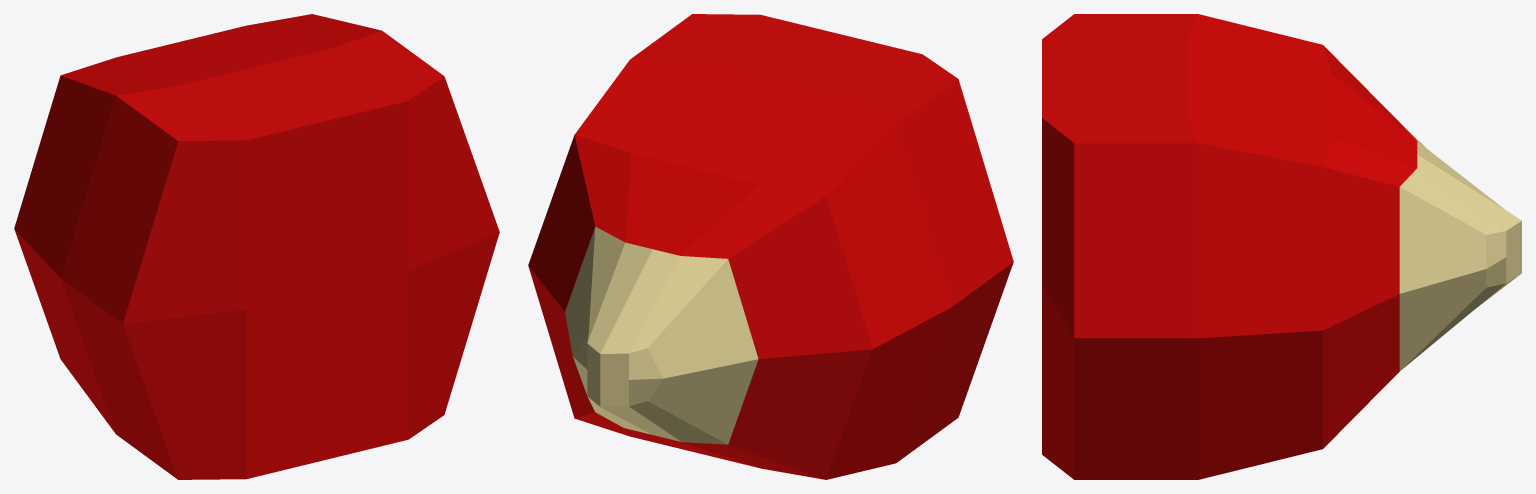
Rendered from Enemy_Serpent_Tail.fbx.
3 views of the same model, side by side, from view 1: azimuth 30°, elevation 25°; view 2: azimuth 150°, elevation 25°; view 3: azimuth 270°, elevation 25° (orthographic).
Visible parts, largest first — view 1: Enemy_Serpent_Tail; view 2: Enemy_Serpent_Tail; view 3: Enemy_Serpent_Tail.
Part boxes in pixels (x1=…): Enemy_Serpent_Tail: x1=14, y1=14, x2=499, y2=479; Enemy_Serpent_Tail: x1=528, y1=14, x2=1013, y2=479; Enemy_Serpent_Tail: x1=1042, y1=14, x2=1521, y2=479.
Bounding box in the file's own units: 233 × 200 × 258.
